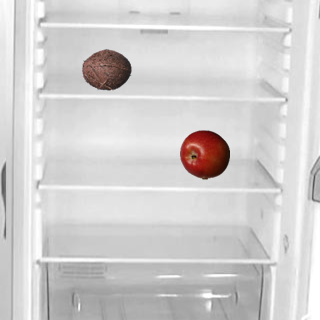Apple Braeburn: (179, 129, 229, 179)
Cocos: (81, 44, 131, 94)
